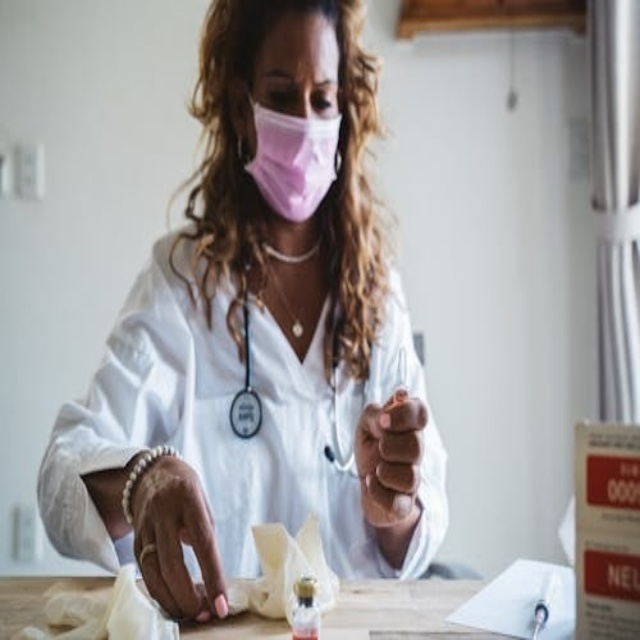Mascara: (242, 92, 342, 221)
Sin_gafas: (252, 62, 340, 121)
Sin_guantes: (124, 449, 231, 624), (352, 387, 427, 528)
